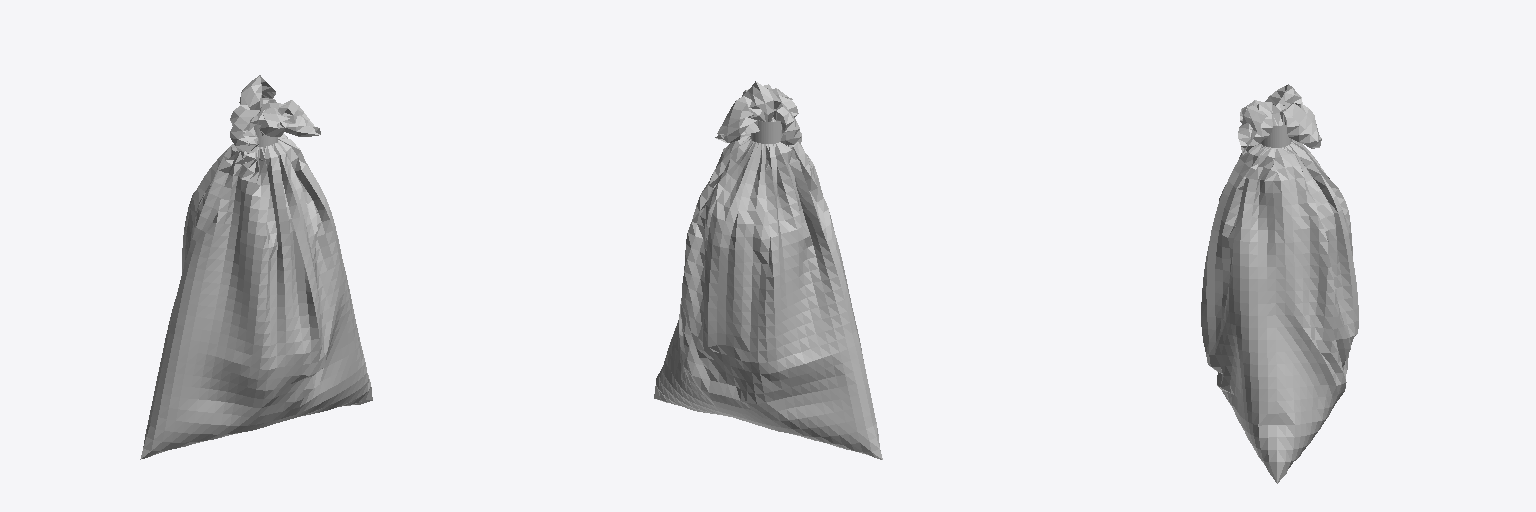
Rendered from trash bag.obj.
The picture shows the model from 3 angles: view 1: azimuth 30°, elevation 25°; view 2: azimuth 150°, elevation 25°; view 3: azimuth 270°, elevation 25°; orthographic projection.
Parts seen in each view (by area): view 1: Box001; view 2: Box001; view 3: Box001.
Part boxes in pixels (x1,y1,x2,y2): Box001: (140,75,372,459); Box001: (654,81,882,459); Box001: (1201,84,1358,483).
Size of the model in its own units: 33.71 by 49.06 by 19.94.